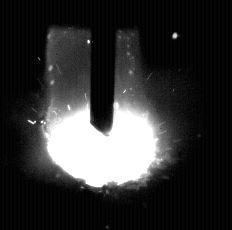arame: (90, 0, 115, 137)
poca: (47, 0, 158, 230)
